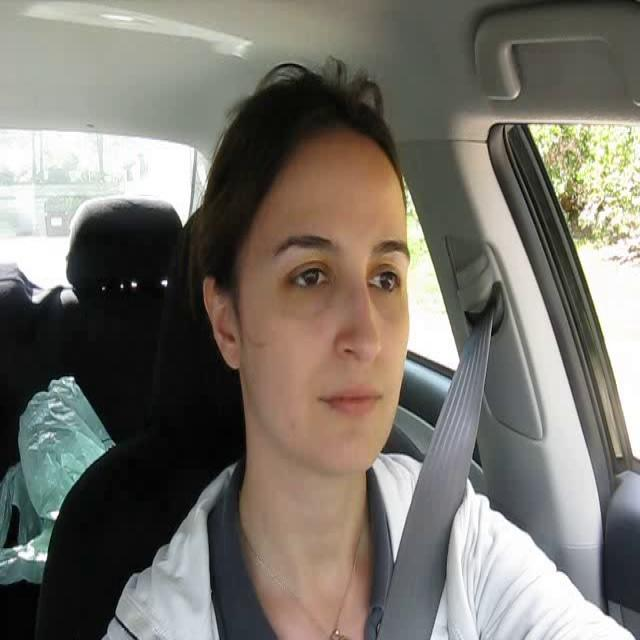close: (314, 378, 389, 423)
